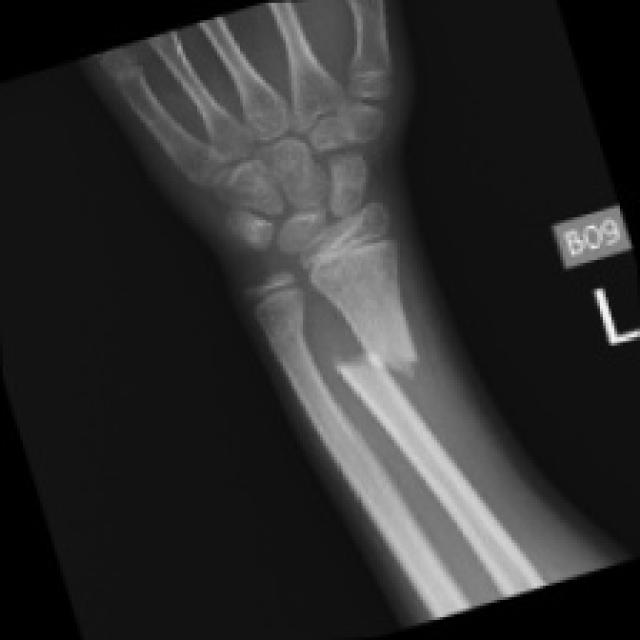fracture: (318, 322, 452, 425)
